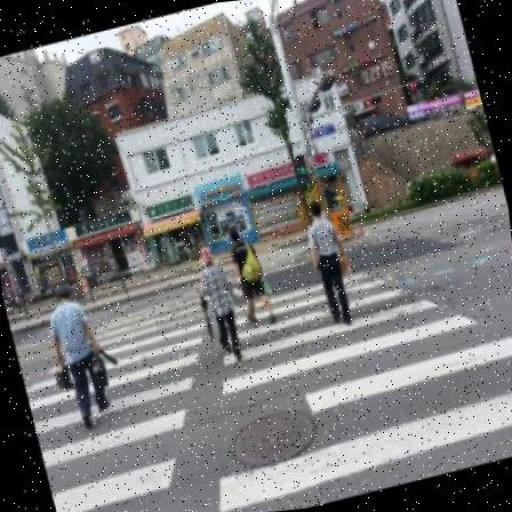person: (38, 278, 121, 434), (300, 193, 364, 333), (188, 239, 252, 368), (224, 223, 280, 334)
